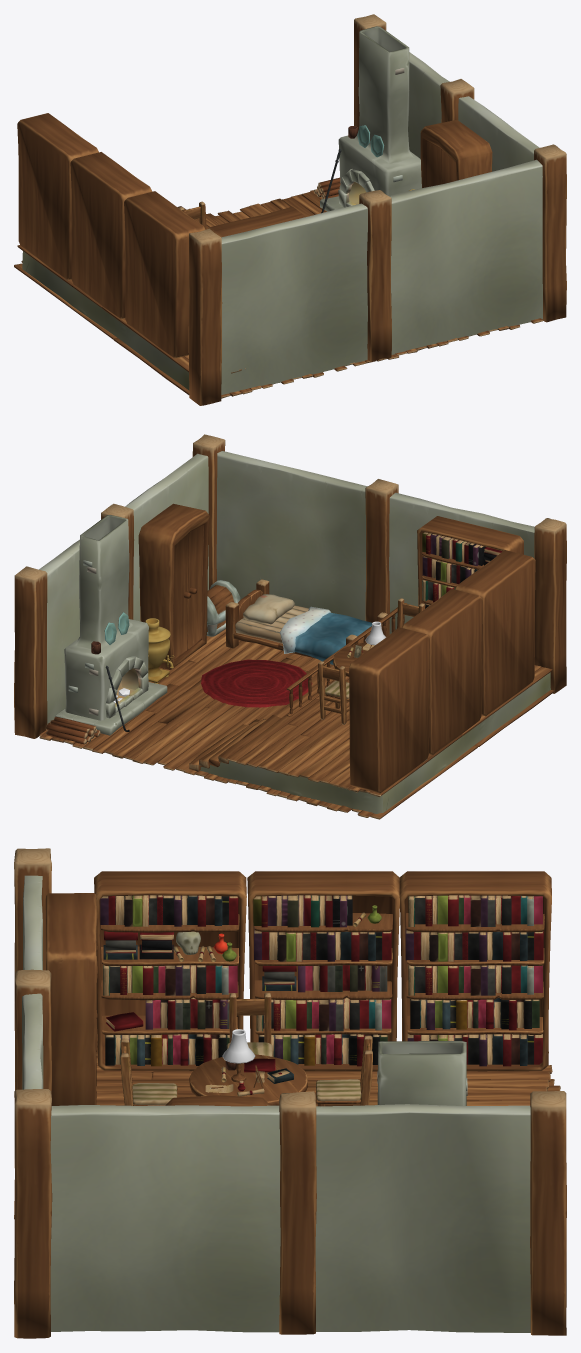
Rendered from Furniture1.fbx.
3 views of the same model, one above another, from view 1: azimuth 30°, elevation 25°; view 2: azimuth 150°, elevation 25°; view 3: azimuth 270°, elevation 25° (orthographic). The views are drawn at different scales.
Parts seen in each view (by area): view 1: room, furnace, bookshelf.002, bookshelf.003, bookshelf.004, cupboard, bookshelf.001; view 2: room, furnace, bookshelf.004, cupboard, bookshelf.002, bookshelf.003, bed, bookshelf.001, rug, chair.001, samovar, chest (+2 smaller); view 3: room, bookshelf.004, bookshelf.003, bookshelf.002, bookshelf.001, furnace, table, chair.001, chair.003, chair.005, cupboard, lamp.
Part boxes in pixels (x1,y1,x2,y2): room: (14, 14, 566, 405); furnace: (320, 26, 421, 211); bookshelf.002: (124, 191, 205, 358); bookshelf.003: (70, 152, 152, 319); bookshelf.004: (17, 113, 98, 280); cupboard: (420, 120, 492, 187); bookshelf.001: (208, 206, 305, 237); room: (14, 434, 566, 819); furnace: (55, 515, 167, 735); bookshelf.004: (349, 627, 429, 793); cupboard: (138, 503, 209, 669); bookshelf.002: (455, 550, 535, 716); bookshelf.003: (402, 589, 482, 754); bed: (225, 579, 389, 664); bookshelf.001: (417, 516, 523, 608); rug: (201, 659, 312, 707); chair.001: (318, 661, 349, 724); samovar: (145, 618, 174, 683); chest: (206, 580, 240, 636); room: (14, 848, 566, 1338); bookshelf.004: (399, 871, 551, 1071); bookshelf.003: (247, 871, 399, 1071); bookshelf.002: (94, 871, 246, 1070); bookshelf.001: (45, 893, 97, 1105); furnace: (377, 1041, 467, 1105); table: (189, 1054, 307, 1105); chair.001: (316, 1035, 372, 1106); chair.003: (120, 1038, 177, 1105); chair.005: (226, 992, 272, 1056); cupboard: (165, 1095, 270, 1106); lamp: (222, 1029, 255, 1082).
Size of the model in its own units: 1158 by 554 by 1055.
Materials: 7 (5 with a texture image).
